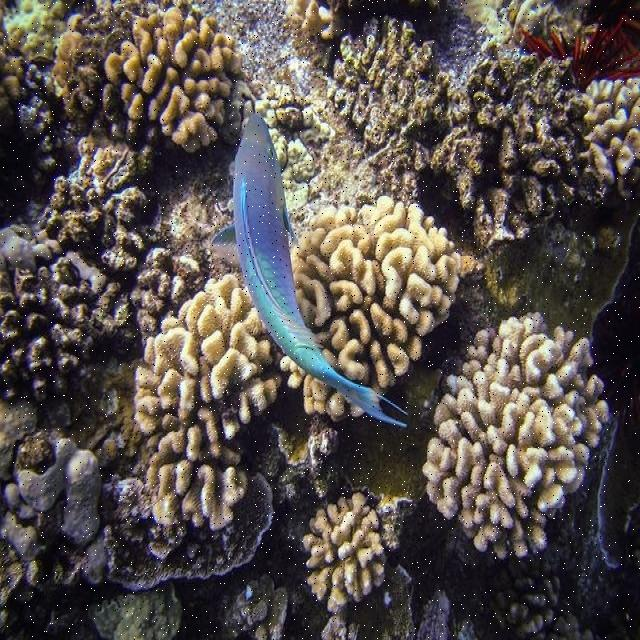fish: (210, 113, 409, 427)
reefs: (326, 14, 639, 250), (133, 274, 364, 530), (0, 137, 205, 403), (422, 312, 613, 559), (290, 195, 479, 394), (0, 0, 193, 190), (102, 5, 242, 152), (219, 69, 337, 214), (303, 492, 387, 613), (284, 0, 351, 39)
